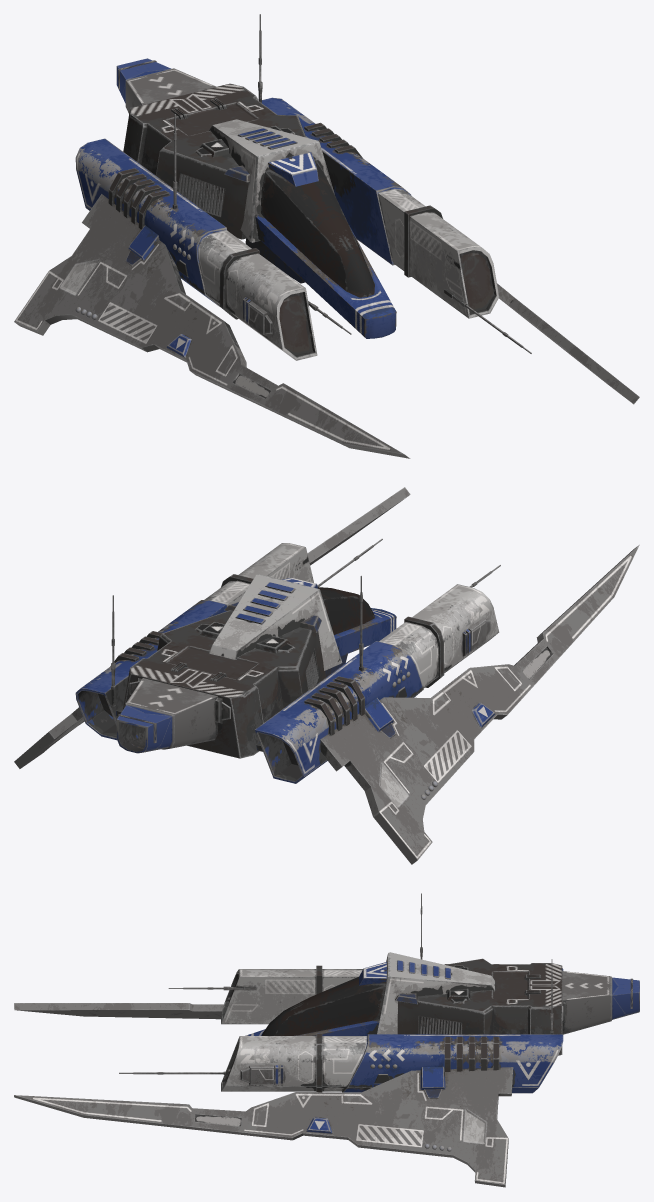
File: striker.obj
The picture shows the model from 3 angles, top to bottom: view 1: azimuth 30°, elevation 25°; view 2: azimuth 150°, elevation 25°; view 3: azimuth 270°, elevation 25°; orthographic projection. The views are drawn at different scales.
Visible parts, largest first — view 1: Striker_Spaceship2_Spaceship2; view 2: Striker_Spaceship2_Spaceship2; view 3: Striker_Spaceship2_Spaceship2.
Boxes of the visible parts, <box> form: Striker_Spaceship2_Spaceship2: <box>14,14,639,458</box>; Striker_Spaceship2_Spaceship2: <box>14,487,639,864</box>; Striker_Spaceship2_Spaceship2: <box>14,893,639,1187</box>.
Bounding box in the file's own units: 5.03 × 2.68 × 8.43.
1 material, 1 textured.
